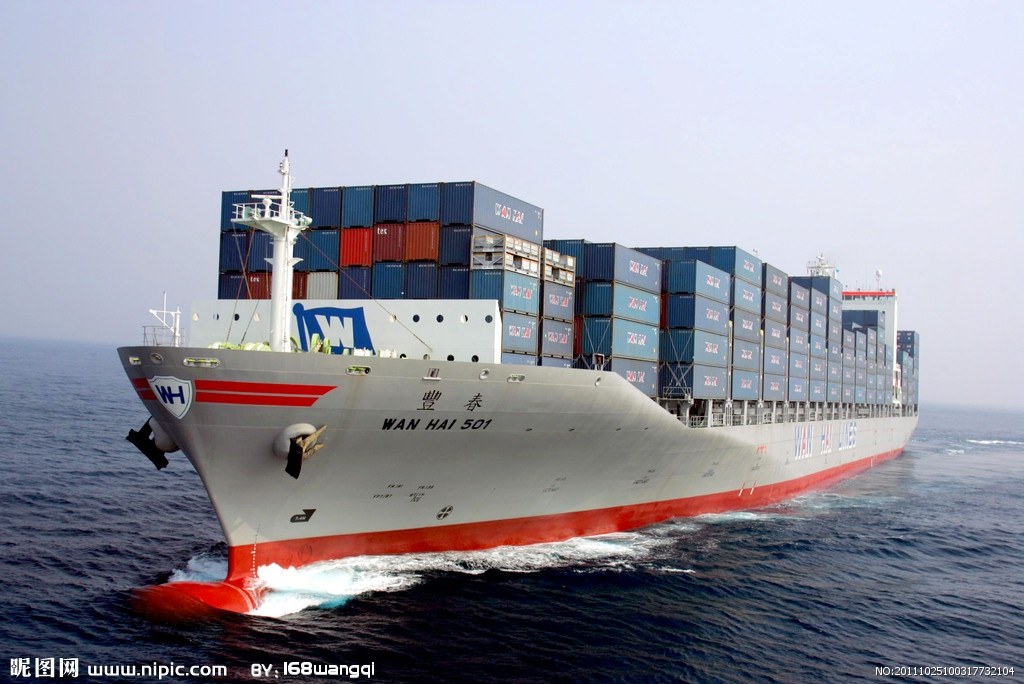Cargoship: (108, 165, 924, 605)
